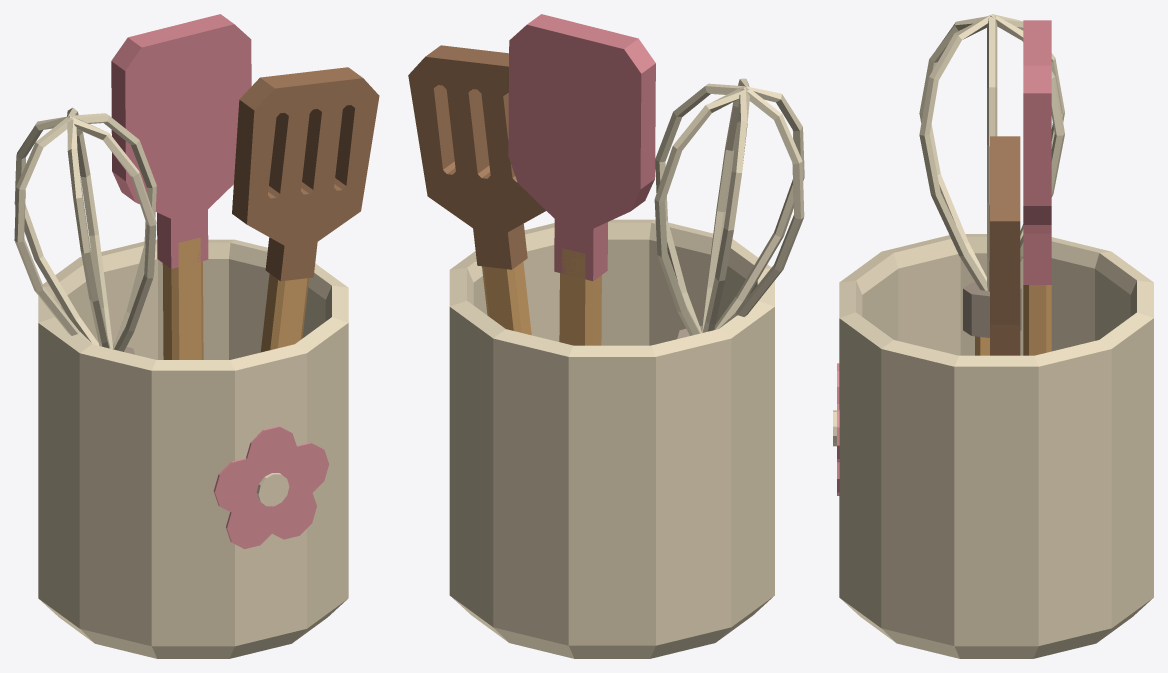
The model's file is 03-utensil-holder.glb.
3 renders of one model, left to right at view 1: azimuth 30°, elevation 25°; view 2: azimuth 150°, elevation 25°; view 3: azimuth 270°, elevation 25°, orthographic. The views are drawn at different scales.
Parts seen in each view (by area): view 1: 01 Holder - hollow ceramic and flower, 03 Pink silicone spatula, 04 Wooden slotted turner, 02 Balloon whisk; view 2: 01 Holder - hollow ceramic and flower, 03 Pink silicone spatula, 04 Wooden slotted turner, 02 Balloon whisk; view 3: 01 Holder - hollow ceramic and flower, 02 Balloon whisk, 03 Pink silicone spatula, 04 Wooden slotted turner.
Boxes of the visible parts, x1=… form: 01 Holder - hollow ceramic and flower: x1=38, y1=239, x2=348, y2=658; 03 Pink silicone spatula: x1=111, y1=14, x2=251, y2=359; 04 Wooden slotted turner: x1=232, y1=67, x2=379, y2=352; 02 Balloon whisk: x1=14, y1=107, x2=156, y2=354; 01 Holder - hollow ceramic and flower: x1=449, y1=219, x2=774, y2=658; 03 Pink silicone spatula: x1=508, y1=14, x2=655, y2=345; 04 Wooden slotted turner: x1=408, y1=45, x2=545, y2=335; 02 Balloon whisk: x1=654, y1=78, x2=804, y2=338; 01 Holder - hollow ceramic and flower: x1=833, y1=234, x2=1153, y2=658; 02 Balloon whisk: x1=919, y1=14, x2=1064, y2=355; 03 Pink silicone spatula: x1=1023, y1=20, x2=1051, y2=355; 04 Wooden slotted turner: x1=990, y1=136, x2=1020, y2=355.
Bounding box in the file's own units: 1.95 × 2.86 × 1.48.
